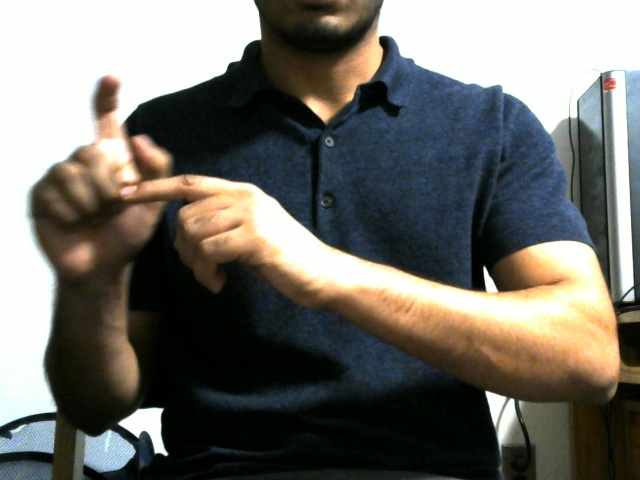call: (8, 64, 328, 304)
